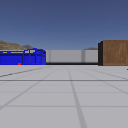blue_basket: (1, 48, 46, 65)
obstacle: (98, 40, 128, 66)
red_cube: (17, 62, 21, 65)
